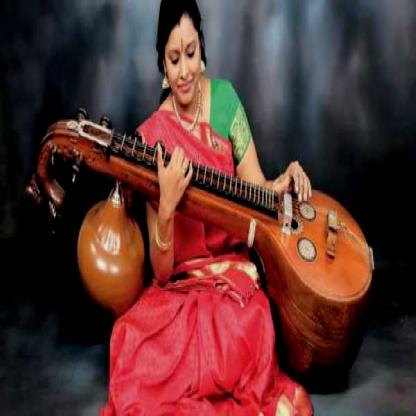Veena: (163, 165, 388, 322)
